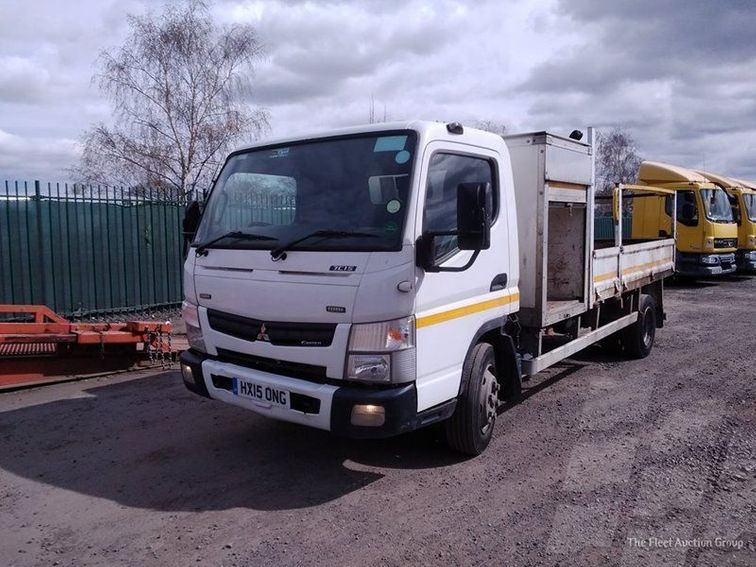Semi: (175, 121, 676, 458), (630, 160, 737, 284)
